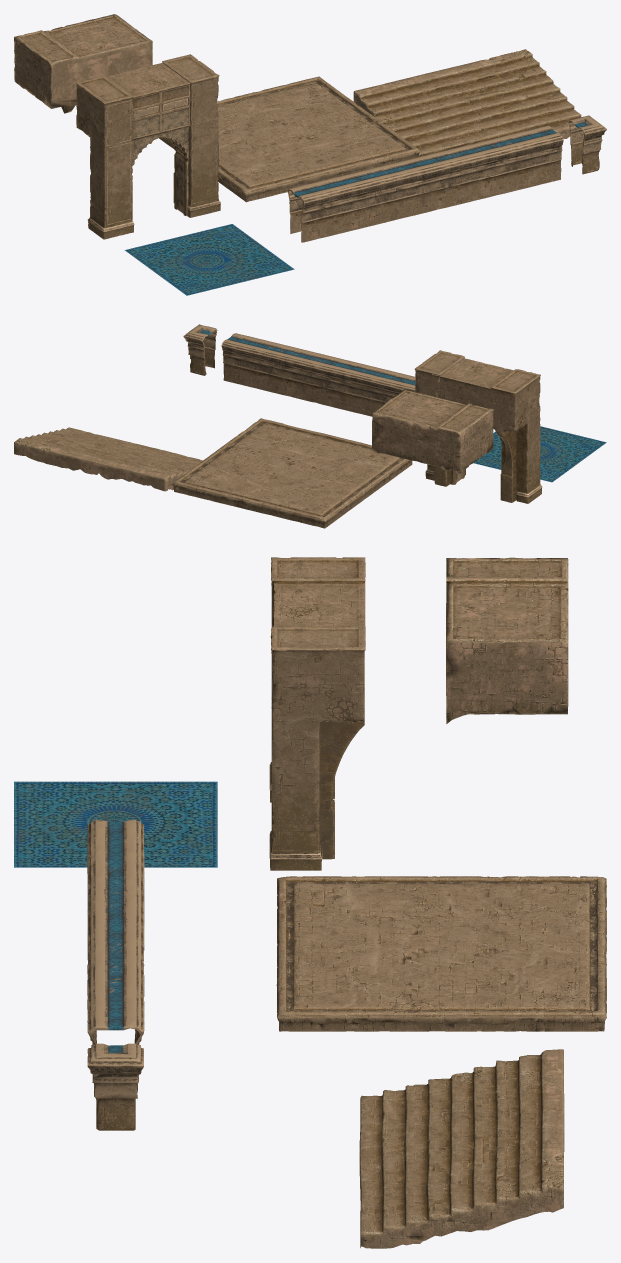
3 views of the same model, one above another, from view 1: azimuth 30°, elevation 25°; view 2: azimuth 150°, elevation 25°; view 3: azimuth 270°, elevation 25° (orthographic). The views are drawn at different scales.
Visible parts, largest first — view 1: DesertTemple_Platform_01, DesertTemple_RailBlock_01, DesertTemple_Stair_02, DesertTemple_Fortress_Portal_04, DesertTemple_Portal_04_Extention_Structure_Source_Portal_04_, Plane, DesertTemple_Fortress_Portal_04_Pillar_Structure_Source_Port, DesertTemple_RailBlock_02; view 2: DesertTemple_Platform_01, DesertTemple_RailBlock_01, DesertTemple_Fortress_Portal_04, DesertTemple_Portal_04_Extention_Structure_Source_Portal_04_, DesertTemple_Stair_02, Plane, DesertTemple_Fortress_Portal_04_Pillar_Structure_Source_Port, DesertTemple_RailBlock_02; view 3: DesertTemple_Platform_01, DesertTemple_Stair_02, DesertTemple_Portal_04_Extention_Structure_Source_Portal_04_, DesertTemple_Fortress_Portal_04_Pillar_Structure_Source_Port, Plane, DesertTemple_RailBlock_01, DesertTemple_Fortress_Portal_04, DesertTemple_RailBlock_02.
Boxes of the visible parts, x1,y1,x2,y2 form: DesertTemple_Platform_01: [159, 76, 420, 202]; DesertTemple_RailBlock_01: [287, 126, 563, 242]; DesertTemple_Stair_02: [353, 49, 581, 156]; DesertTemple_Fortress_Portal_04: [75, 63, 190, 239]; DesertTemple_Portal_04_Extention_Structure_Source_Portal_04_: [14, 14, 152, 113]; Plane: [124, 224, 294, 295]; DesertTemple_Fortress_Portal_04_Pillar_Structure_Source_Port: [162, 54, 220, 217]; DesertTemple_RailBlock_02: [568, 115, 606, 174]; DesertTemple_Platform_01: [172, 418, 412, 528]; DesertTemple_RailBlock_01: [221, 333, 415, 416]; DesertTemple_Fortress_Portal_04: [432, 358, 542, 503]; DesertTemple_Portal_04_Extention_Structure_Source_Portal_04_: [372, 389, 493, 471]; DesertTemple_Stair_02: [14, 427, 202, 491]; Plane: [473, 426, 606, 482]; DesertTemple_Fortress_Portal_04_Pillar_Structure_Source_Port: [414, 350, 466, 480]; DesertTemple_RailBlock_02: [183, 324, 217, 375]; DesertTemple_Platform_01: [276, 876, 606, 1031]; DesertTemple_Stair_02: [359, 1049, 564, 1248]; DesertTemple_Portal_04_Extention_Structure_Source_Portal_04_: [446, 557, 568, 723]; DesertTemple_Fortress_Portal_04_Pillar_Structure_Source_Port: [269, 626, 365, 870]; Plane: [14, 781, 217, 867]; DesertTemple_RailBlock_01: [87, 820, 144, 1044]; DesertTemple_Fortress_Portal_04: [269, 557, 365, 858]; DesertTemple_RailBlock_02: [87, 1043, 143, 1130].
Size of the model in its own units: 23.73 by 7.75 by 14.55.
Materials: 8 (8 with a texture image).
